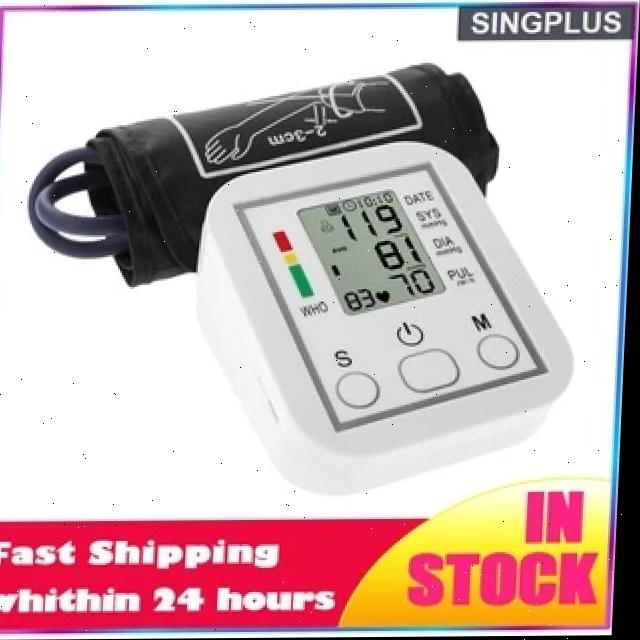dia: (369, 229, 431, 277)
pul: (389, 258, 446, 308)
ssd: (296, 164, 451, 338)
sys: (336, 193, 415, 247)
